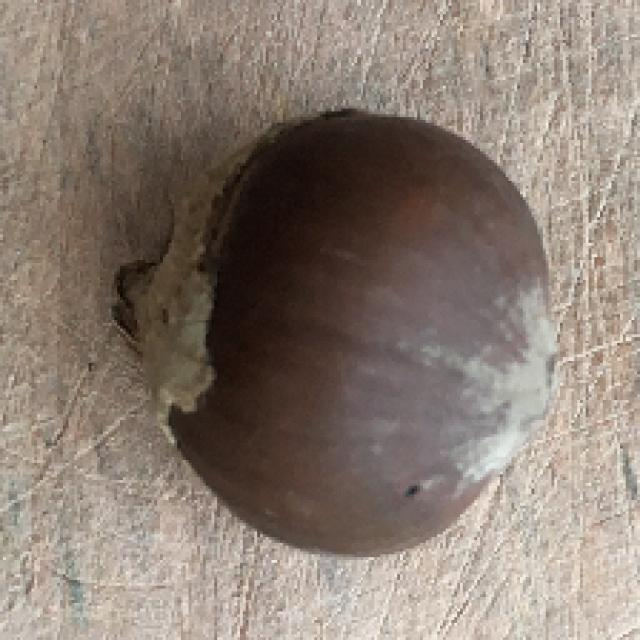damagedHazelnut: (112, 105, 565, 560)
